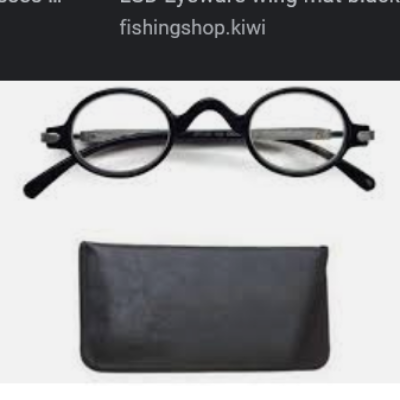glasses: (21, 85, 399, 215)
